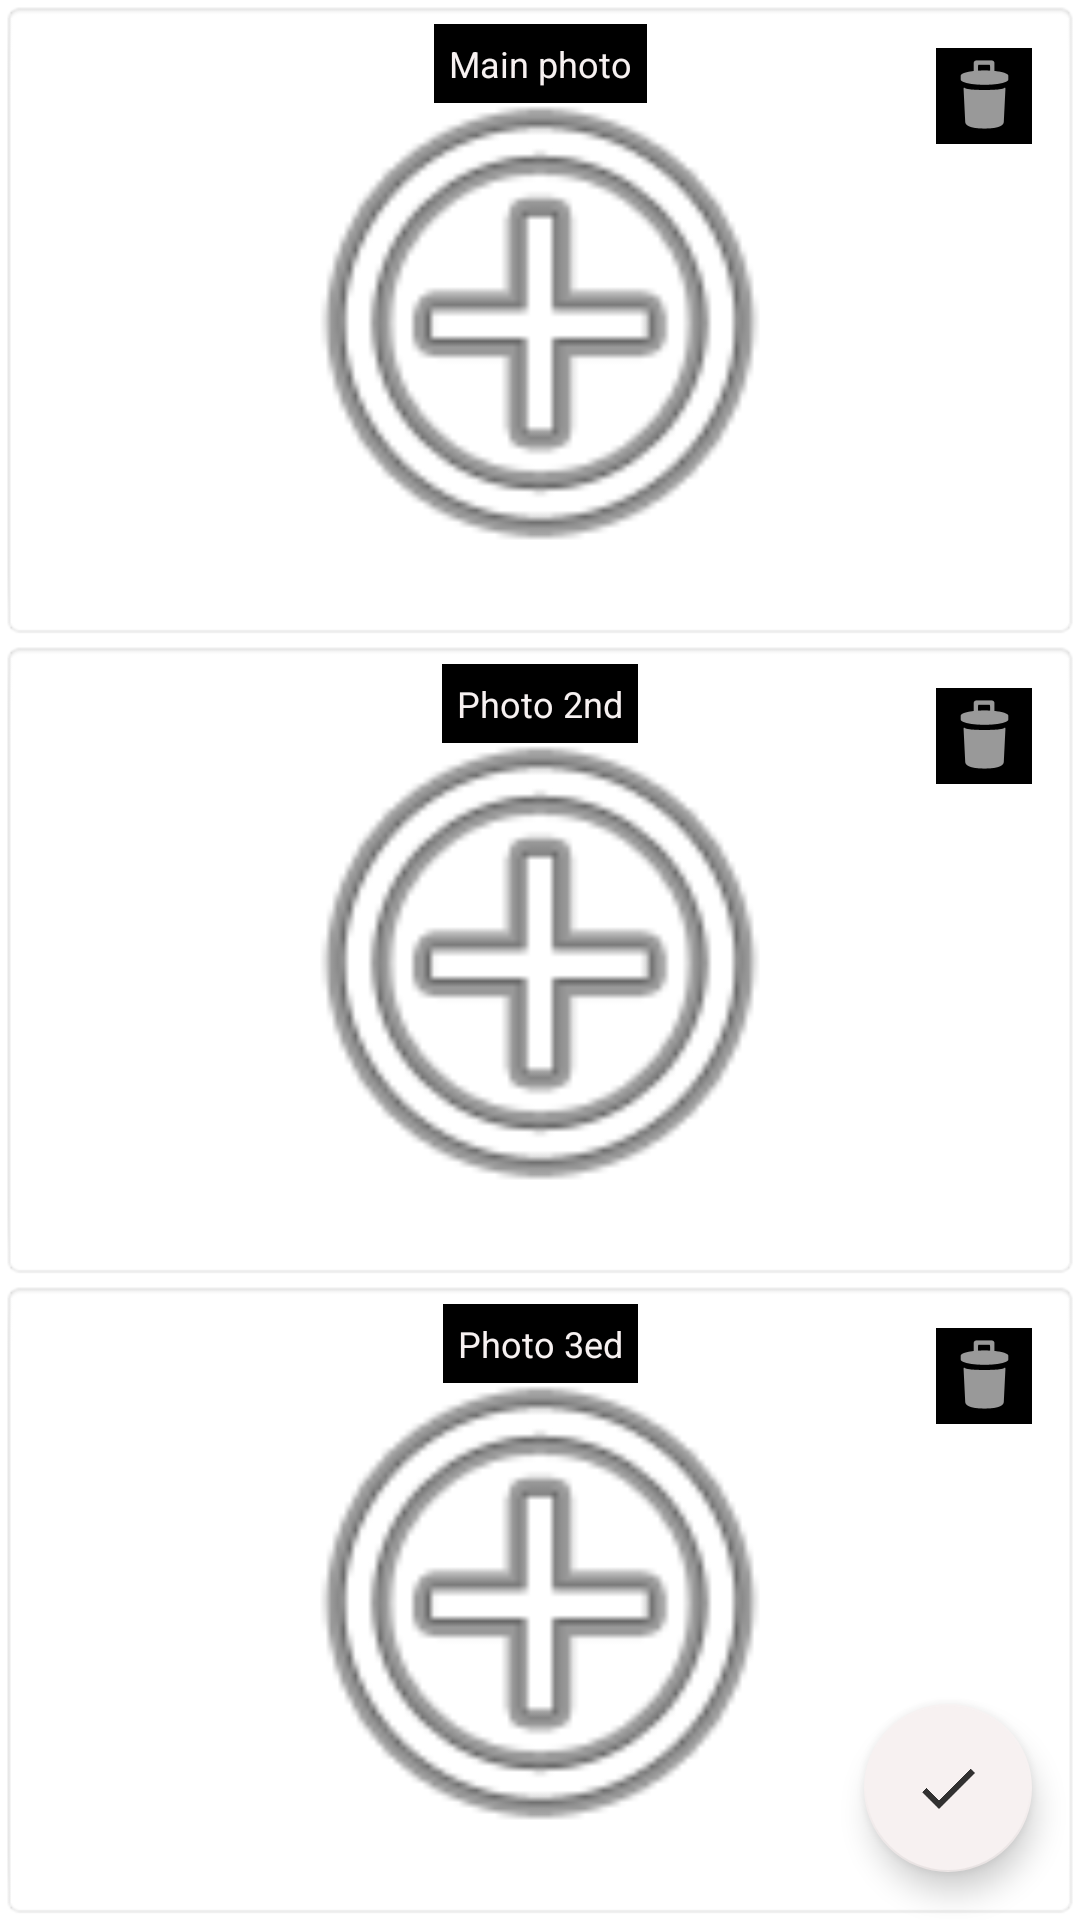

Icons on this 1080px×1920px Android screen, each with its box as rect(x1, y1, x2, y2):
delete: rect(936, 48, 1032, 144), rect(936, 688, 1032, 784), rect(936, 1328, 1032, 1424)
